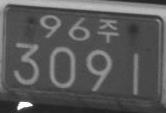0: (48, 45, 76, 89)
1: (123, 51, 148, 95)
3: (13, 41, 39, 85)
6: (67, 16, 90, 41)
9: (84, 48, 113, 92), (38, 13, 62, 38)
주: (96, 18, 119, 43)
